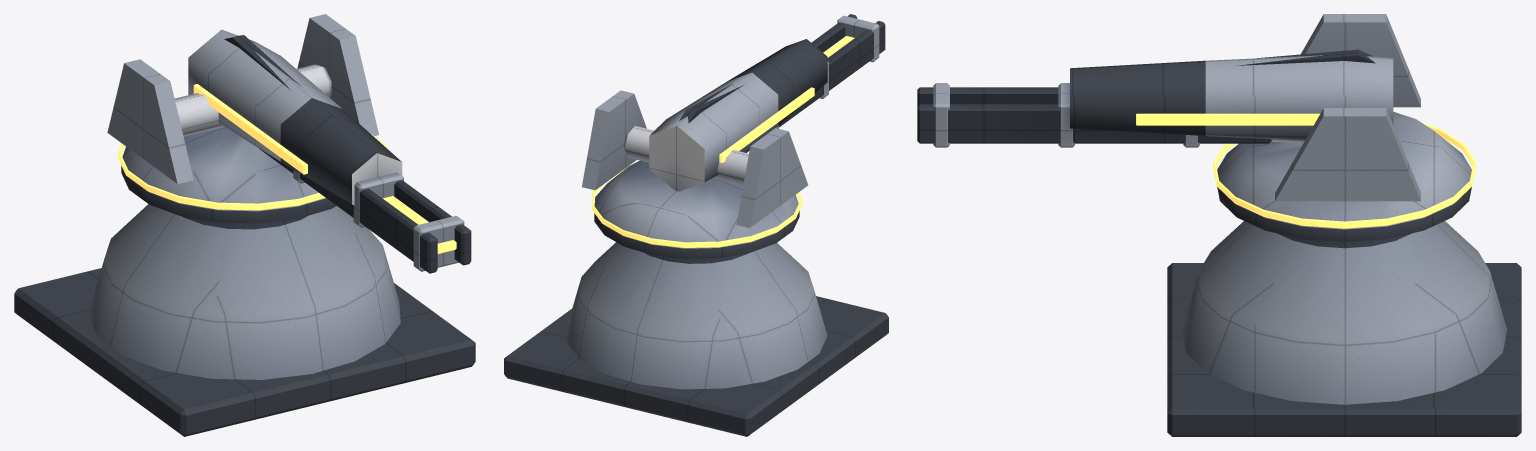
Rendered from R4W_Basic_LOD1.glb.
3 views of the same model, side by side, from view 1: azimuth 30°, elevation 25°; view 2: azimuth 150°, elevation 25°; view 3: azimuth 270°, elevation 25° (orthographic). The views are drawn at different scales.
Visible parts, largest first — view 1: R4W_Basic_LOD1; view 2: R4W_Basic_LOD1; view 3: R4W_Basic_LOD1.
Part boxes in pixels (left/top/right/bottom): R4W_Basic_LOD1: left=14, top=14, right=475, bottom=436; R4W_Basic_LOD1: left=504, top=14, right=888, bottom=436; R4W_Basic_LOD1: left=917, top=14, right=1521, bottom=436.
Bounding box in the file's own units: 0.51 × 0.495 × 0.87.
4 materials, 3 textured.
